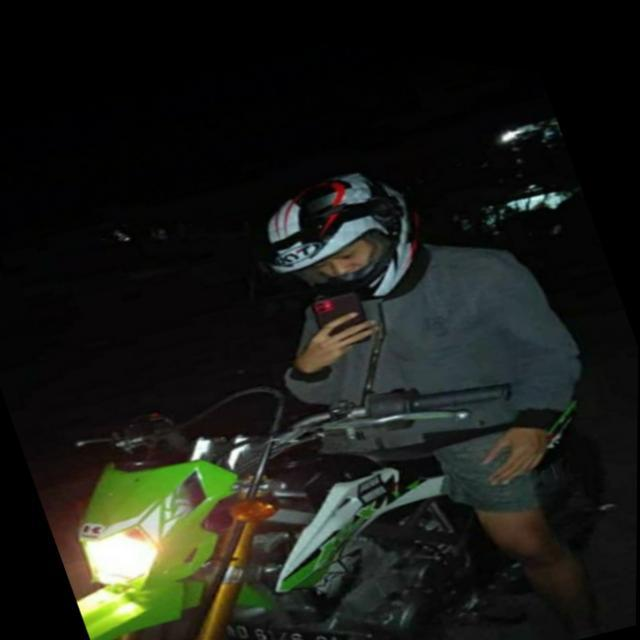Helmet: (256, 157, 424, 312)
